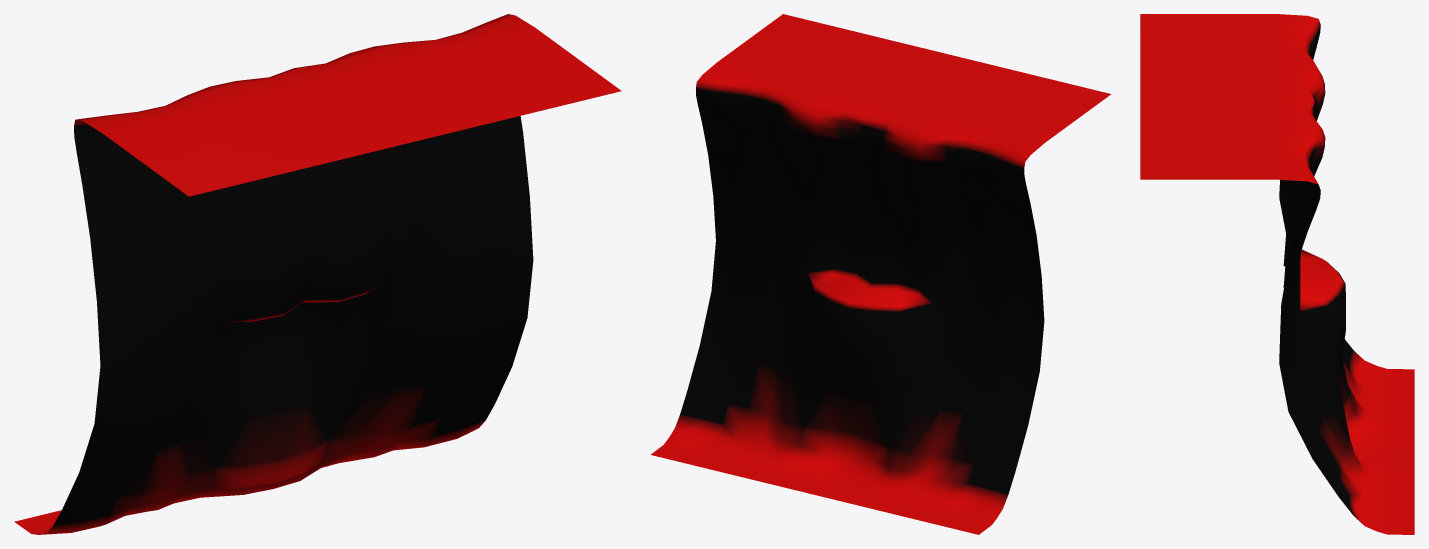
The model's file is GroundCliff01C 2M Background.fbx.
3 views of the same model, side by side, from view 1: azimuth 30°, elevation 25°; view 2: azimuth 150°, elevation 25°; view 3: azimuth 270°, elevation 25° (orthographic). The views are drawn at different scales.
Visible parts, largest first — view 1: GroundCliff01C 2M Background; view 2: GroundCliff01C 2M Background; view 3: GroundCliff01C 2M Background.
Boxes of the visible parts, left/top/right/bottom form: GroundCliff01C 2M Background: left=14, top=14, right=621, bottom=534; GroundCliff01C 2M Background: left=650, top=14, right=1111, bottom=534; GroundCliff01C 2M Background: left=1140, top=14, right=1414, bottom=534.
Size of the model in its own units: 2 by 2 by 1.4.
